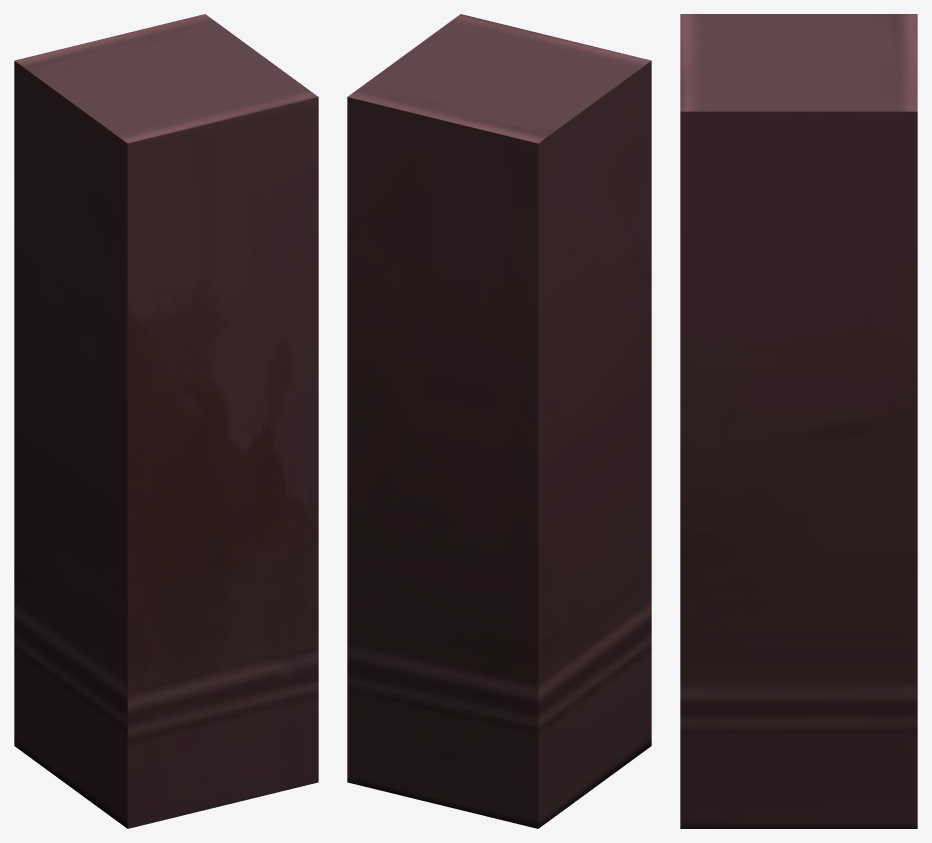
The model's file is mig_wall_zhuzi.FBX.
3 views of the same model, side by side, from view 1: azimuth 30°, elevation 25°; view 2: azimuth 150°, elevation 25°; view 3: azimuth 270°, elevation 25° (orthographic). The views are drawn at different scales.
Visible parts, largest first — view 1: mig_wall_zhuzi; view 2: mig_wall_zhuzi; view 3: mig_wall_zhuzi.
Part boxes in pixels (x1,y1,x2,y2): mig_wall_zhuzi: (14,14,318,828); mig_wall_zhuzi: (347,14,651,828); mig_wall_zhuzi: (680,14,917,828).
Bounding box in the file's own units: 29.16 × 100 × 30.
